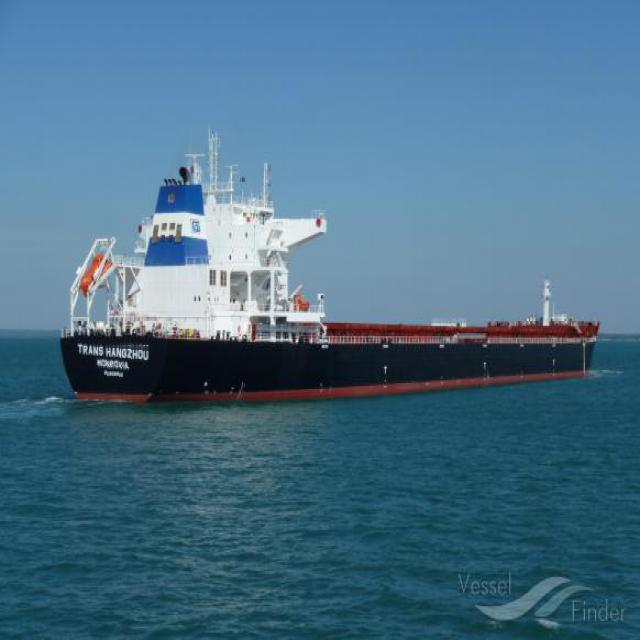OCR: (75, 340, 156, 384)
